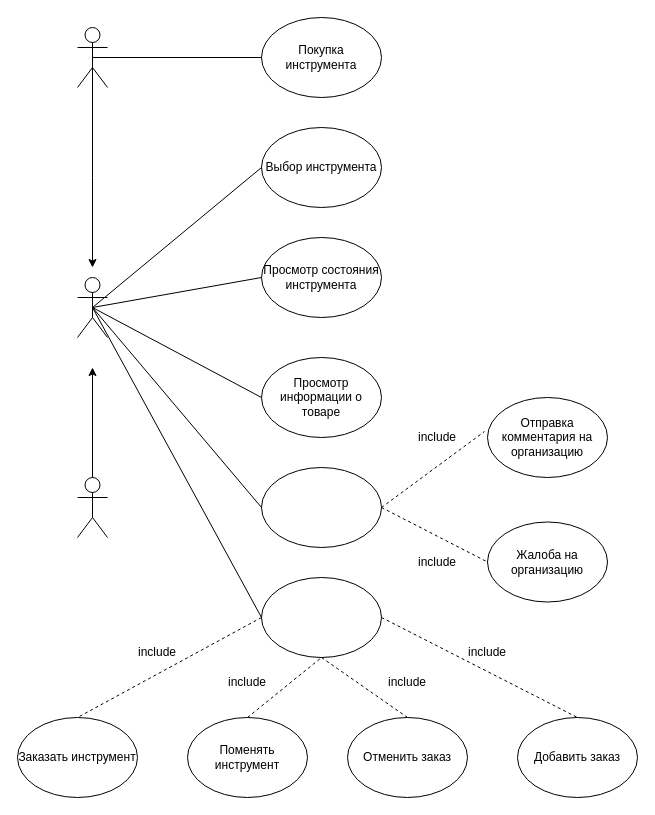
Image size: 655x815. Some labels were removed from this diagram. Here are the shapes that lost their labels. From the top down, the centre of each, then its label:
At point 92,57: "Покупатель".
At point 92,307: "Менеджер".
At point 92,507: "Продавец".
At point 321,507: "Отправка отзыва об инструменте".
At point 321,617: "Управление заказами инструментов".
